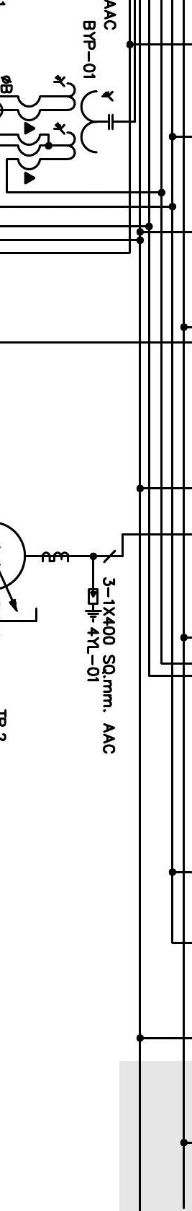115_cvt_3p: (52, 74, 114, 161)
115_la: (84, 588, 103, 623)
